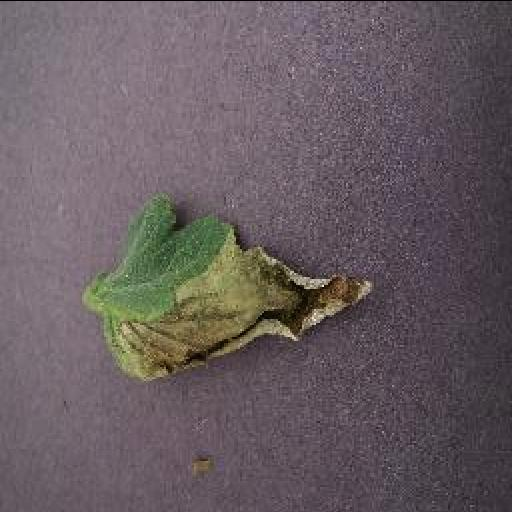disease_tomato: (96, 193, 376, 383)
